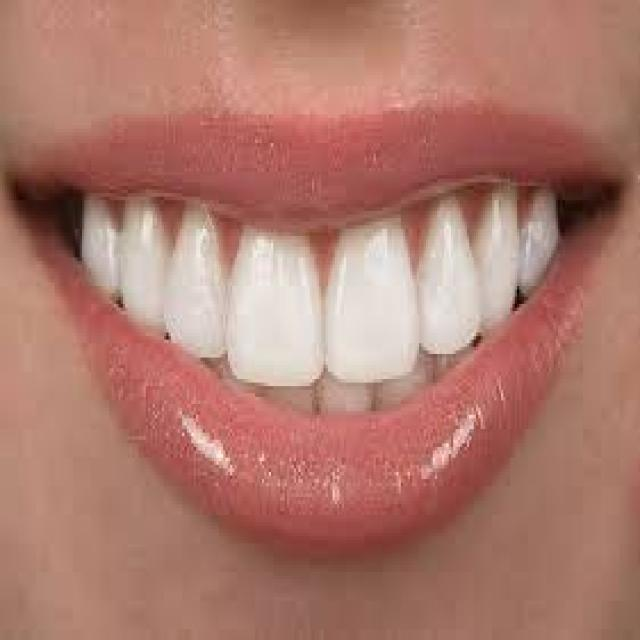tooth: (333, 236, 419, 372), (237, 261, 321, 379), (168, 218, 221, 365), (426, 222, 476, 350), (123, 211, 162, 322), (82, 208, 118, 294), (485, 215, 515, 318), (526, 211, 554, 272), (324, 383, 374, 411), (273, 386, 319, 408), (385, 379, 421, 397)
